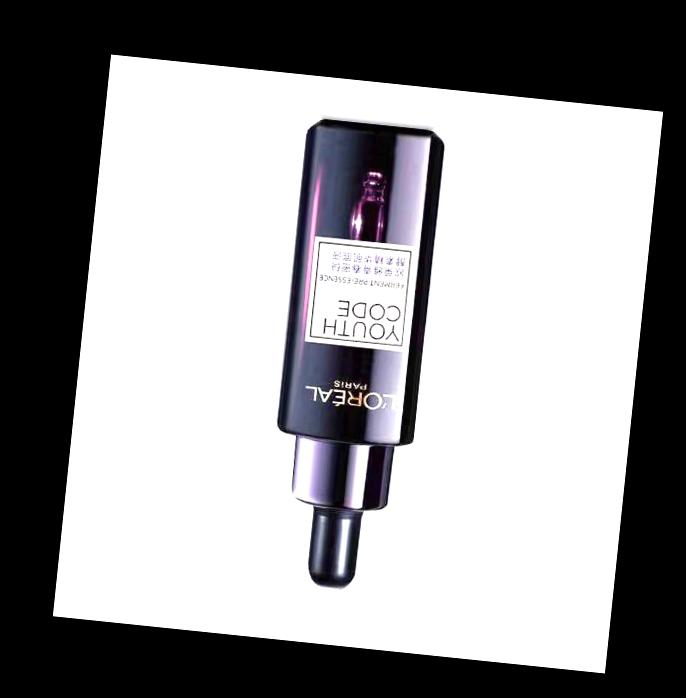cosmetic: (262, 118, 443, 594)
